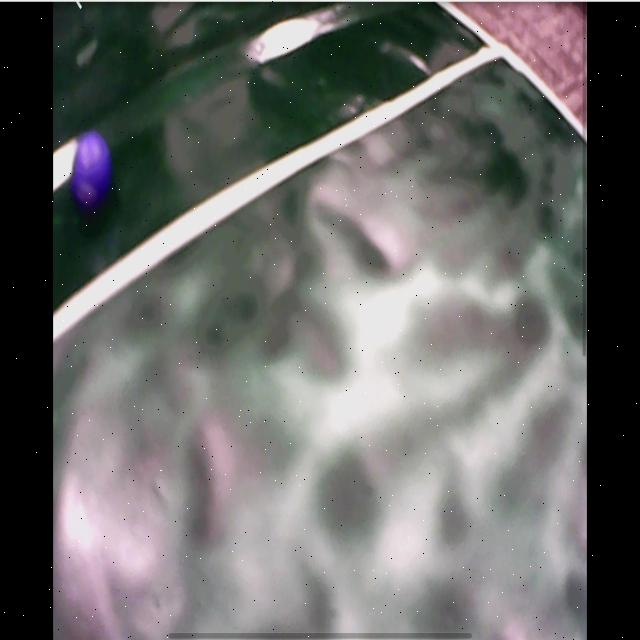ball: (71, 133, 112, 201)
